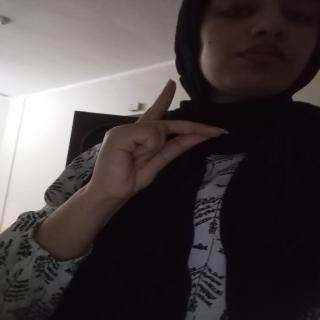TAA: (88, 77, 240, 211)
